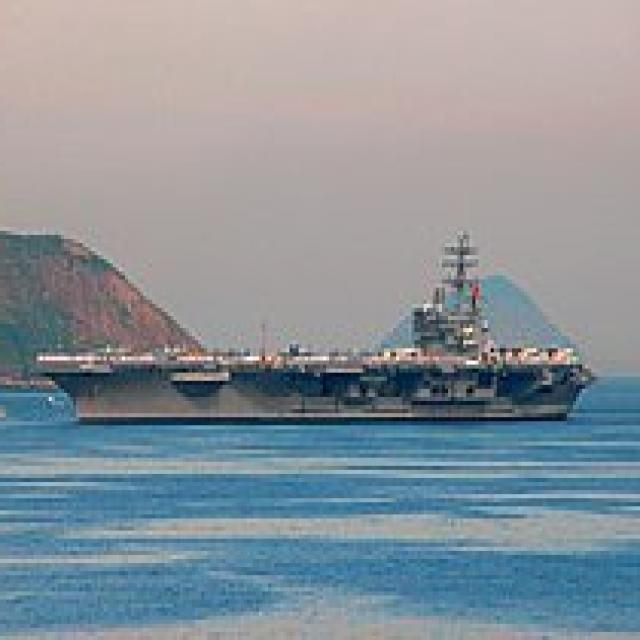Warship: (34, 223, 604, 425)
